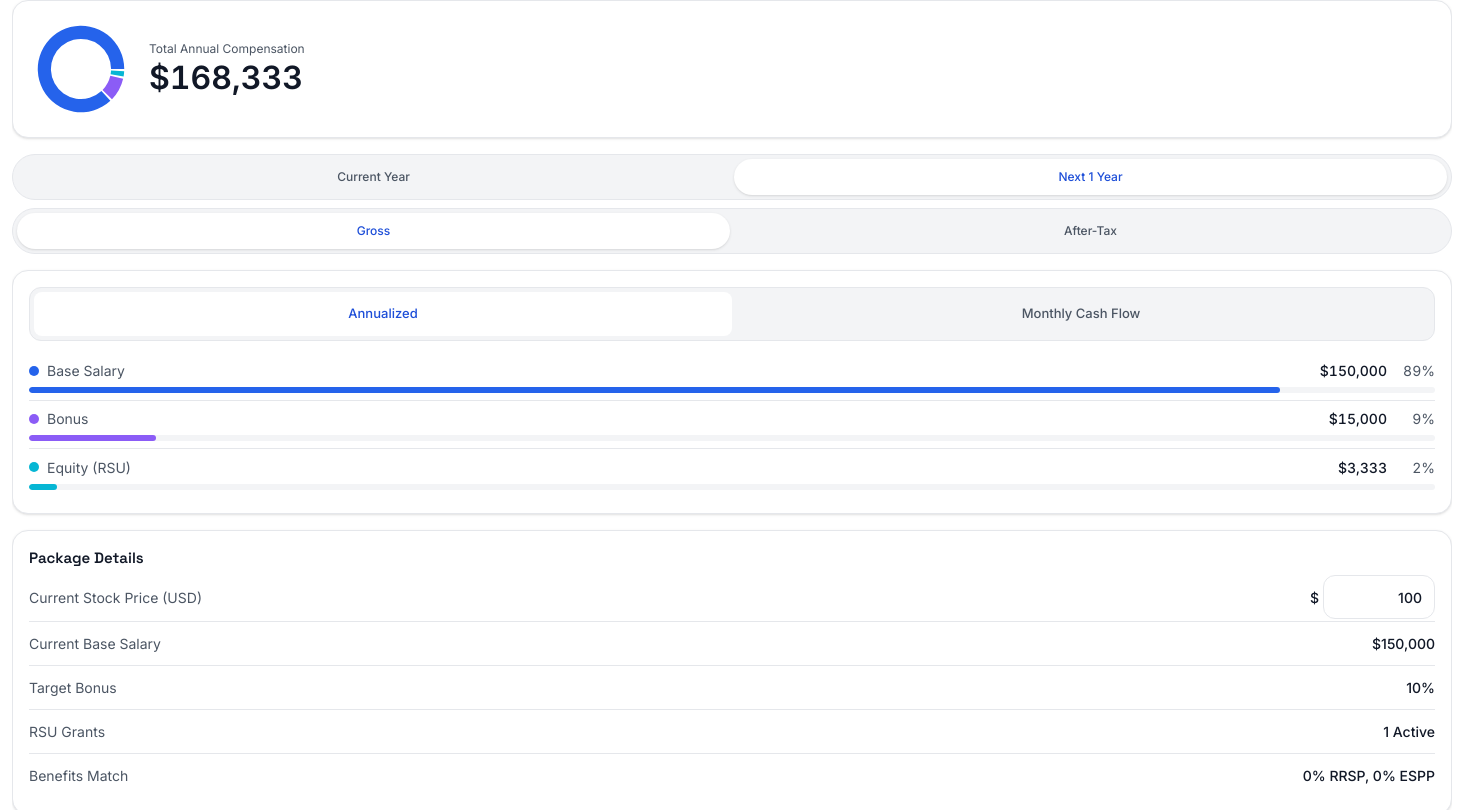
it: CompensationMobile › shows the after-tax block only while After-Tax is on
Expected: the text "Net Monthly" is not shown
What coordinates should you click on to do the following:
click the button with aria-label "Gross or After-Tax: Gross. Switch to After-Tax"
I would click on:
 (732, 231)
Its box is [12,208,1452,254].
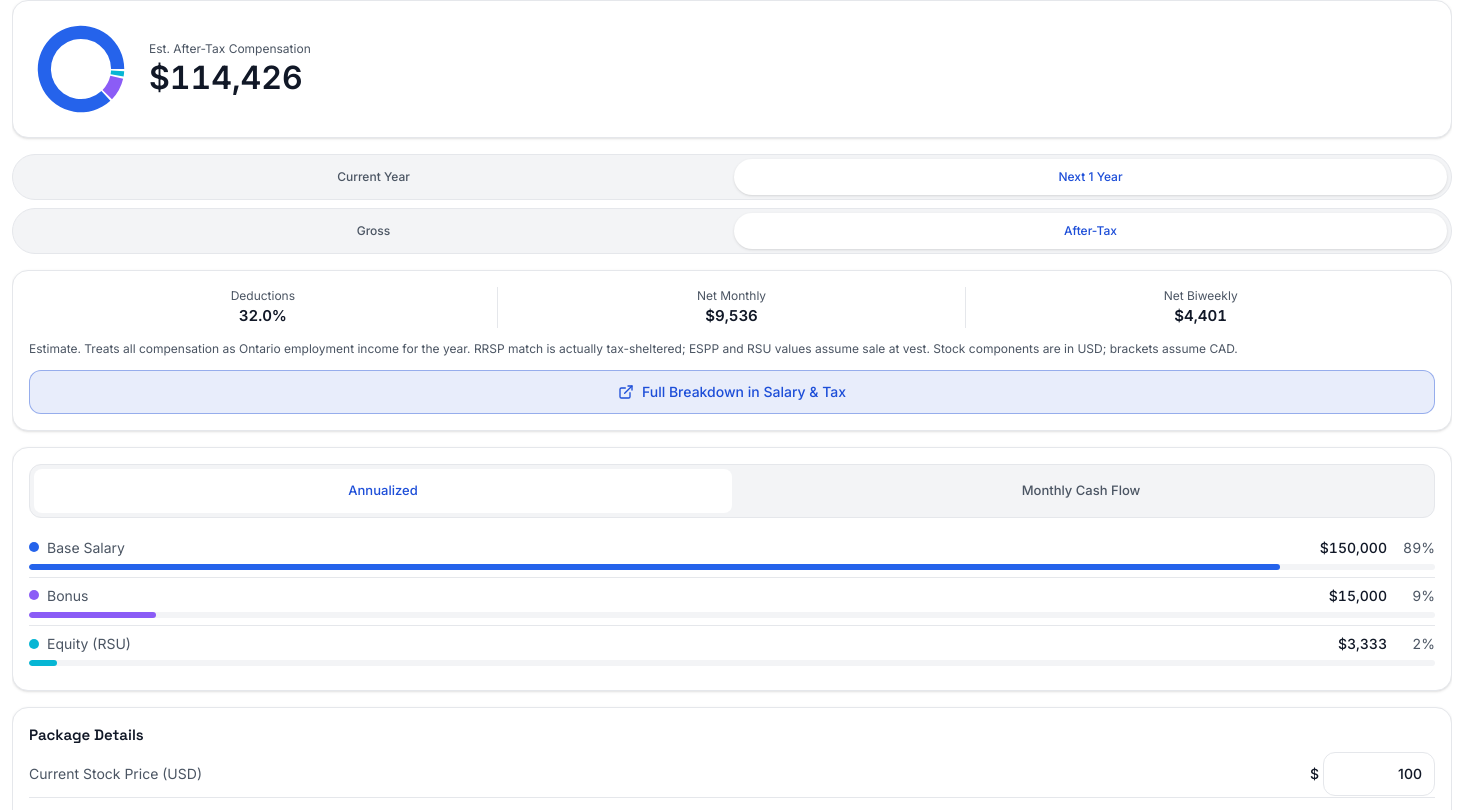
Expected: the text "Net Monthly" is shown, [697,288,766,303]
Expected: the text "Net Biweekly" is shown, [1164,288,1238,303]
Expected: the text "Deductions" is shown, [231,288,295,303]
